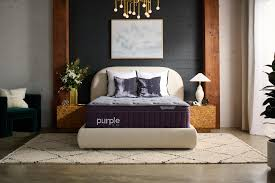bed-matress: (86, 93, 192, 129)
